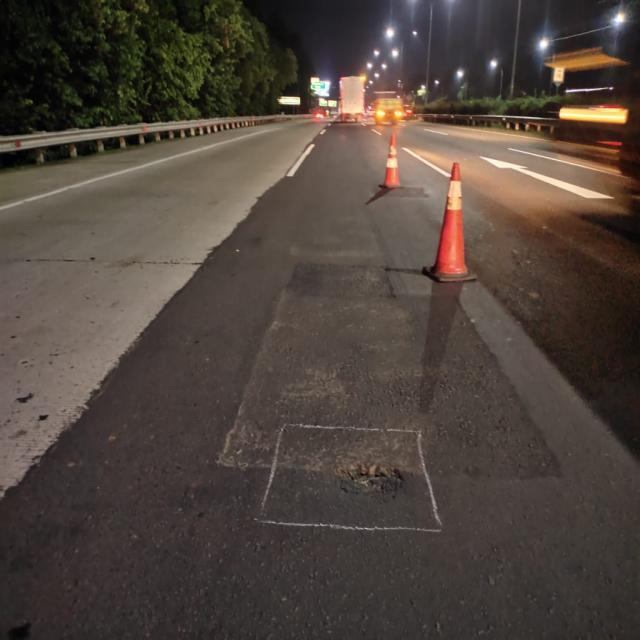Buraco: (327, 458, 415, 501)
